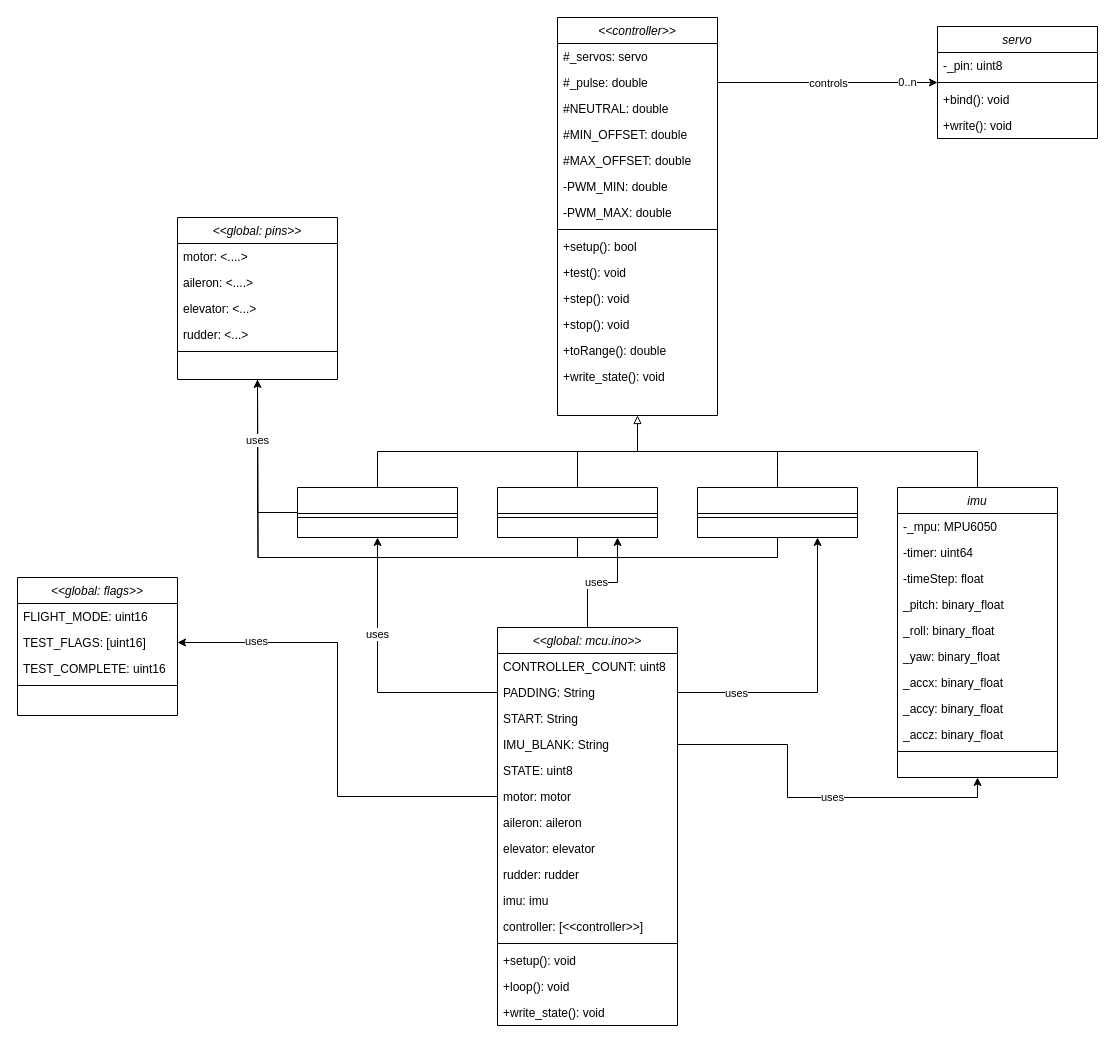
The diagram is 1115 pixels wide and 1046 high, and some of its shapes have lost their labels. Here are the shapes that lost their labels. From the top down, the box of each, then its label:
(296, 486, 458, 538): aileron
(496, 486, 658, 538): elevator
(696, 486, 858, 538): rudder
